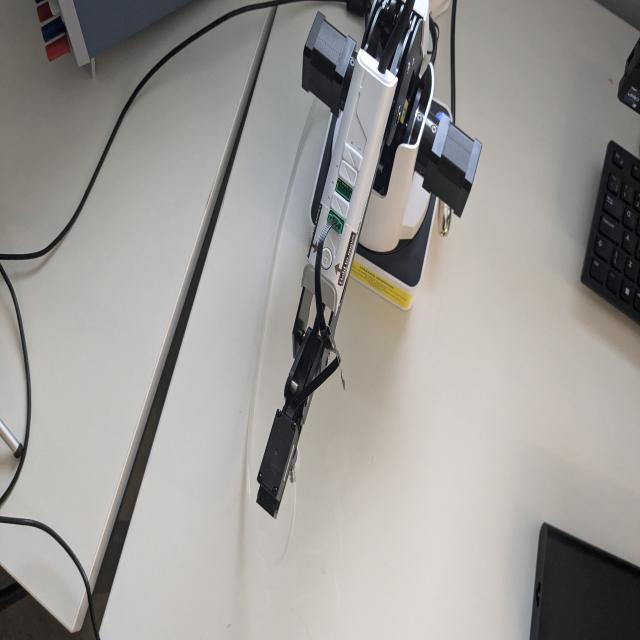Robot-end-effector-HF8z: (251, 403, 303, 522)
